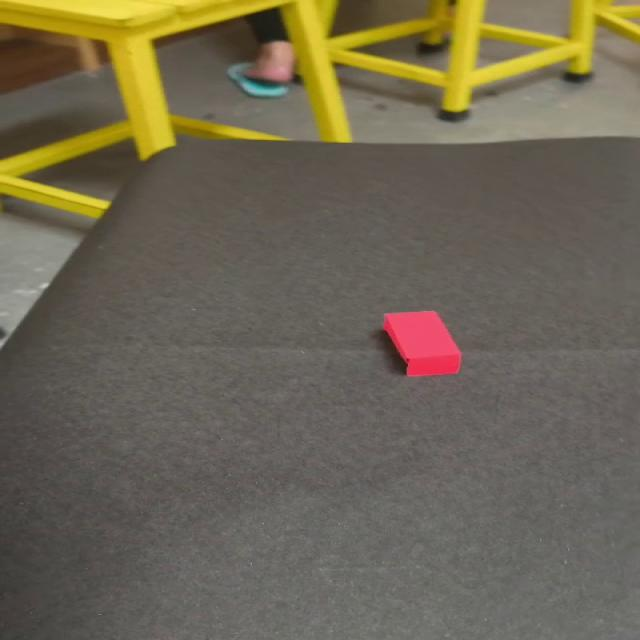red block: (380, 310, 461, 376)
